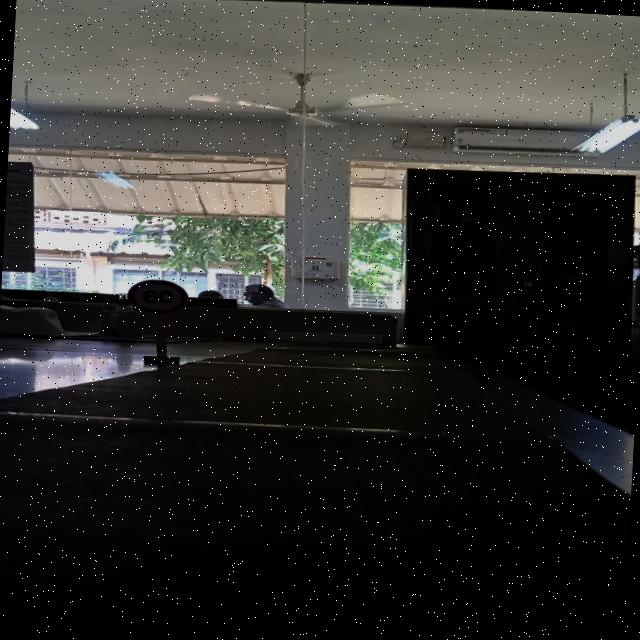Speed60: (124, 276, 190, 318)
